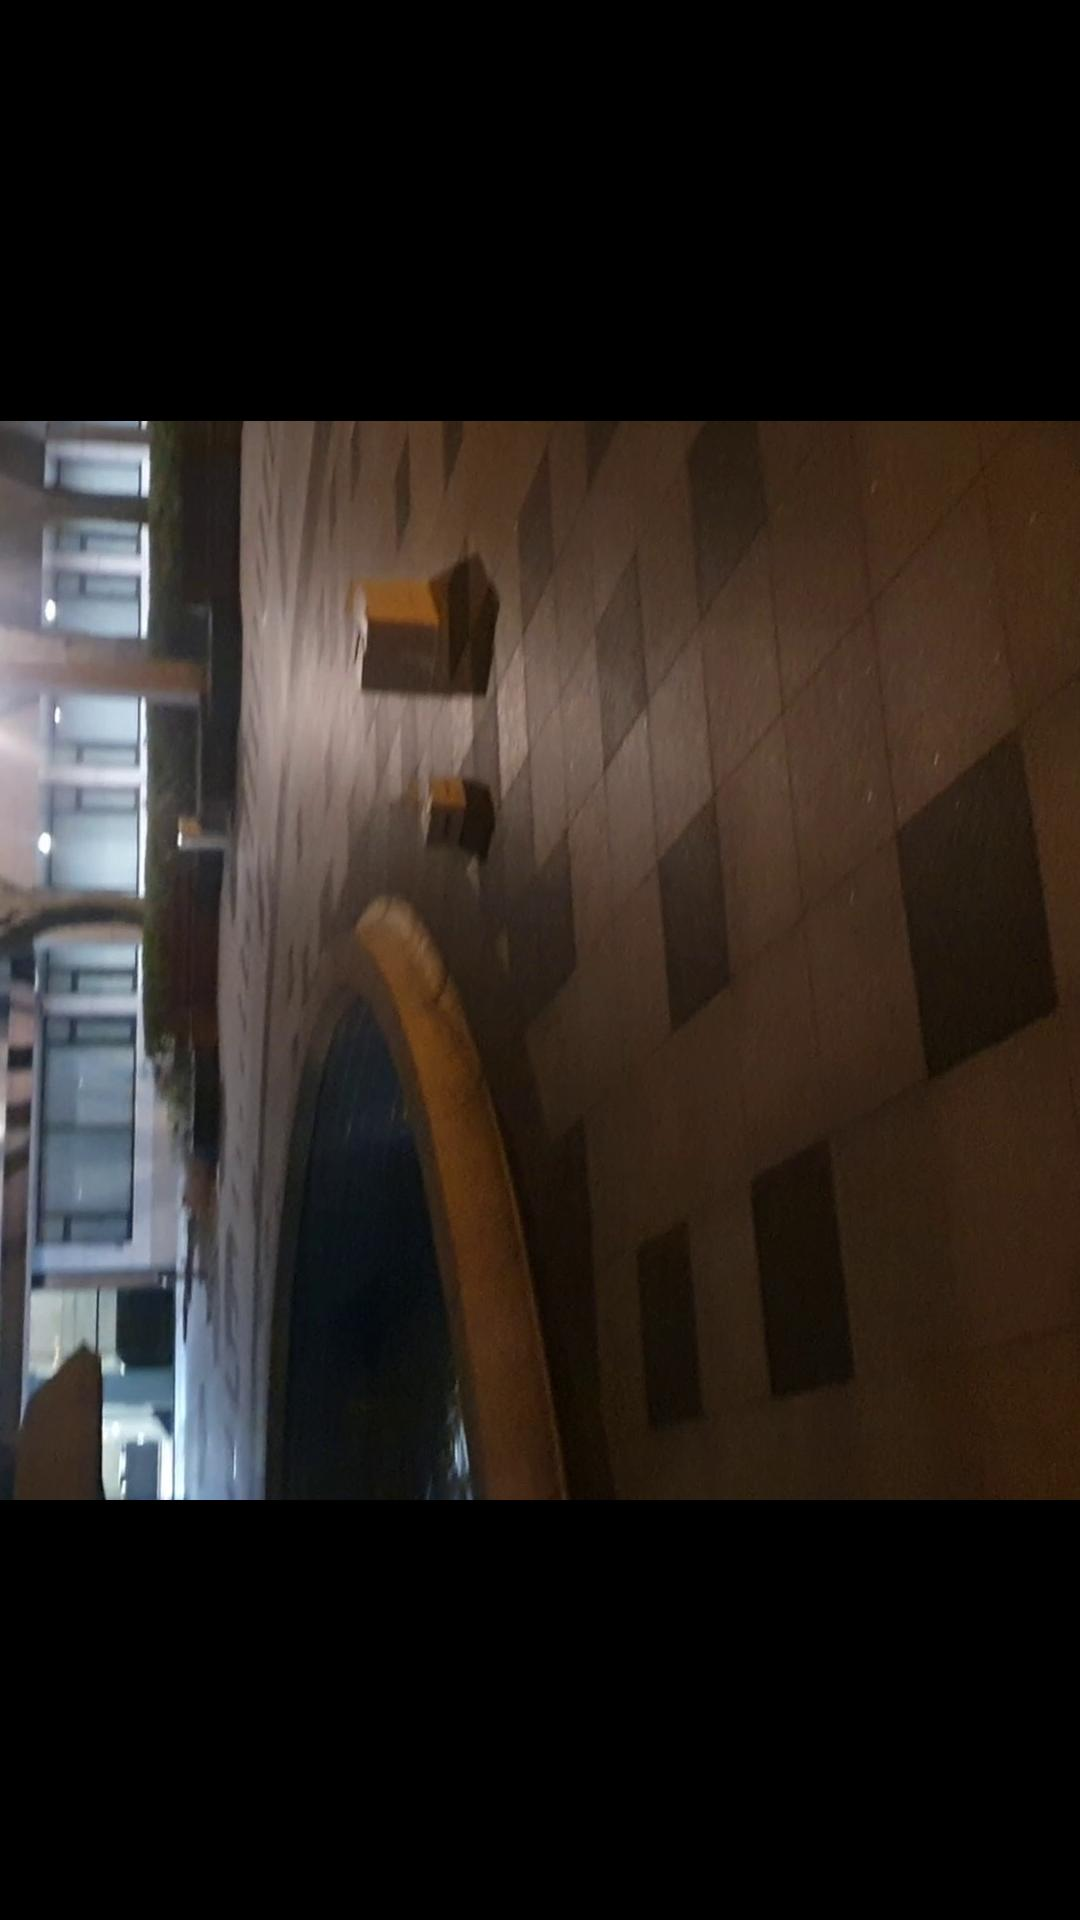Box: (345, 564, 462, 704), (415, 766, 475, 852)
